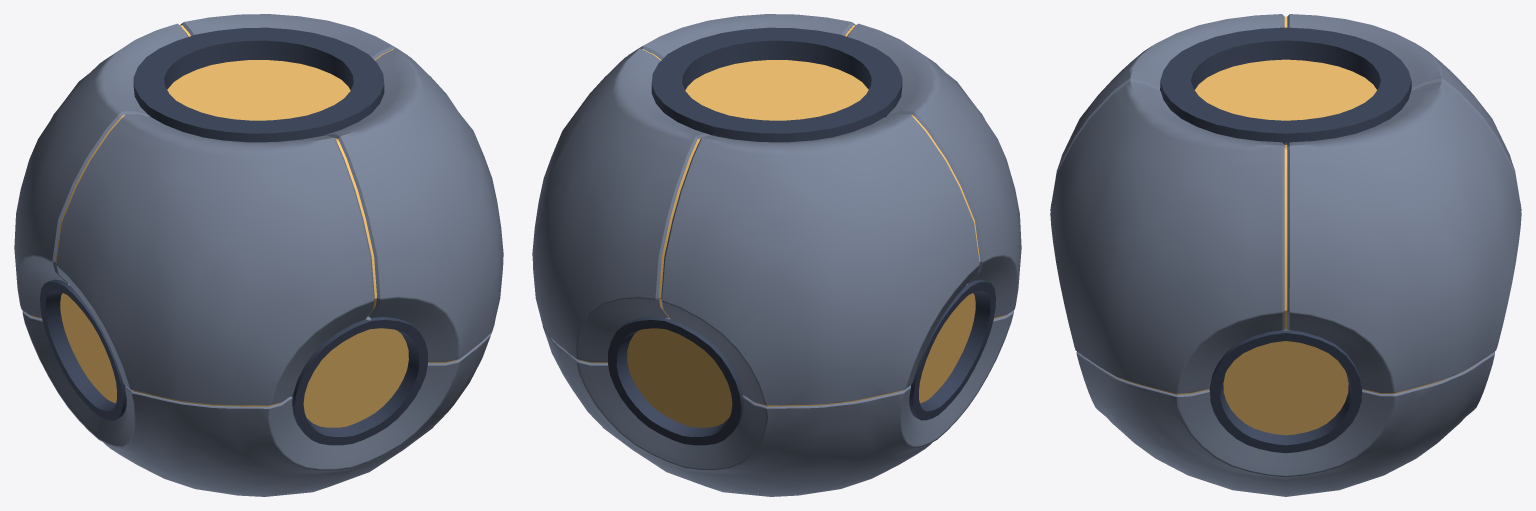
Rendered from powerOrb.fbx.
3 views of the same model, side by side, from view 1: azimuth 30°, elevation 25°; view 2: azimuth 150°, elevation 25°; view 3: azimuth 270°, elevation 25° (orthographic).
Visible parts, largest first — view 1: powerOrb; view 2: powerOrb; view 3: powerOrb.
Part boxes in pixels (bbox=[...]): powerOrb: bbox=[14, 14, 503, 496]; powerOrb: bbox=[532, 14, 1021, 496]; powerOrb: bbox=[1050, 14, 1521, 496].
Size of the model in its own units: 0.9323 by 0.8609 by 0.9323.
